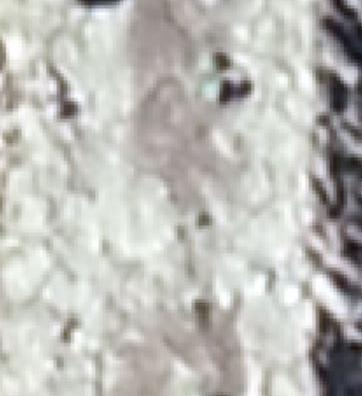cotton: (204, 78, 217, 97)
